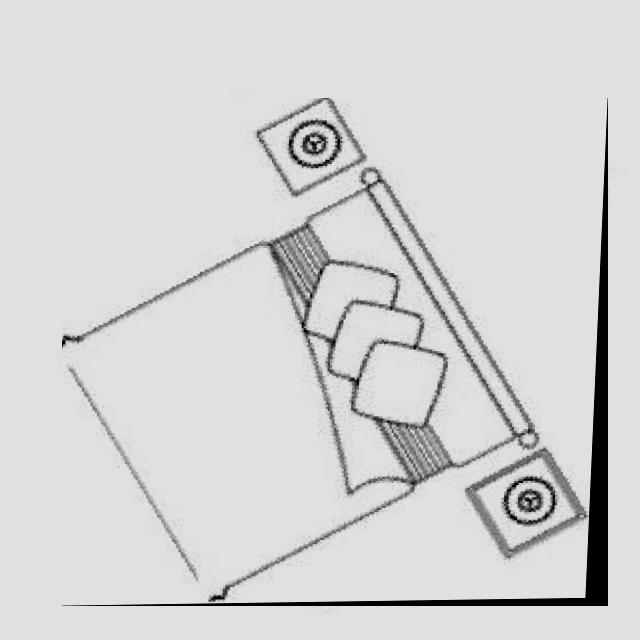bed: (62, 98, 608, 606)
